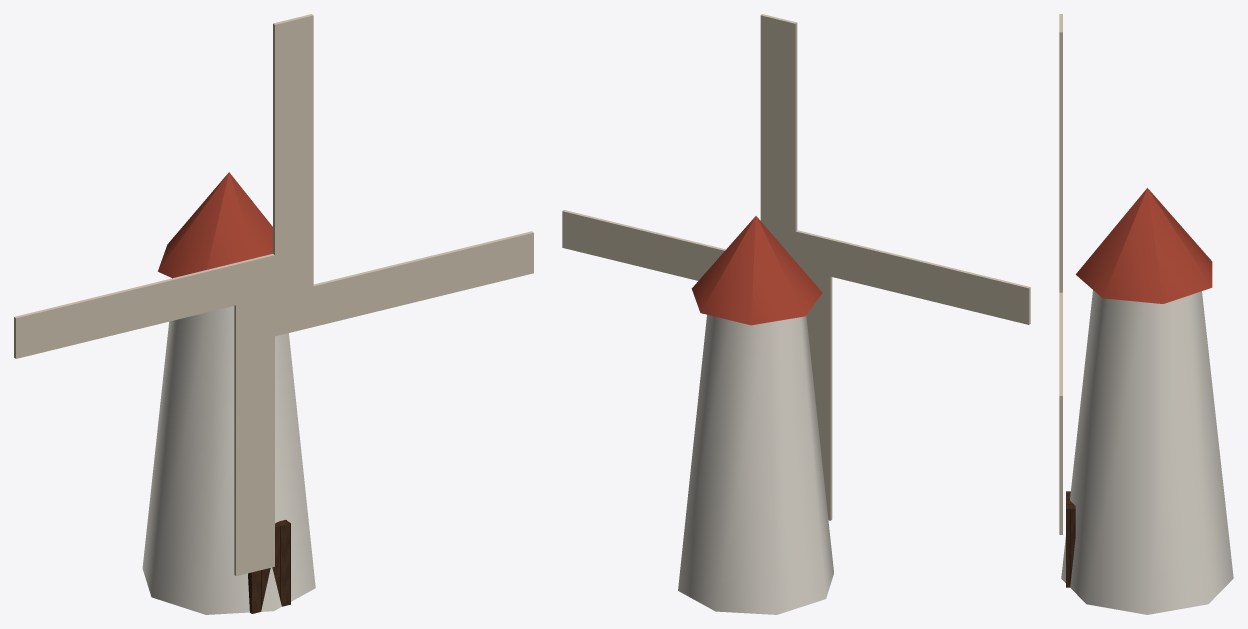
Rendered from molino.glb.
3 views of the same model, side by side, from view 1: azimuth 30°, elevation 25°; view 2: azimuth 150°, elevation 25°; view 3: azimuth 270°, elevation 25° (orthographic). The views are drawn at different scales.
Visible parts, largest first — view 1: molino, object 3, object 4, object 2, object 5; view 2: molino, object 3, object 2, object 5, object 4; view 3: molino, object 2, object 5, object 4.
Part boxes in pixels (box(x1,y1,x2,y2)): molino: box(142, 172, 315, 614); object 3: box(14, 254, 274, 358); object 4: box(234, 296, 274, 576); object 2: box(273, 14, 313, 295); object 5: box(275, 231, 533, 336); molino: box(678, 216, 833, 614); object 3: box(795, 230, 1030, 324); object 2: box(760, 14, 797, 260); object 5: box(562, 210, 725, 280); object 4: box(803, 270, 832, 520); molino: box(1061, 188, 1233, 614); object 2: box(1059, 14, 1062, 292); object 5: box(1059, 292, 1062, 434); object 4: box(1059, 435, 1062, 534).
Size of the model in its own units: 12 by 13 by 3.64.
4 materials, 1 textured.
